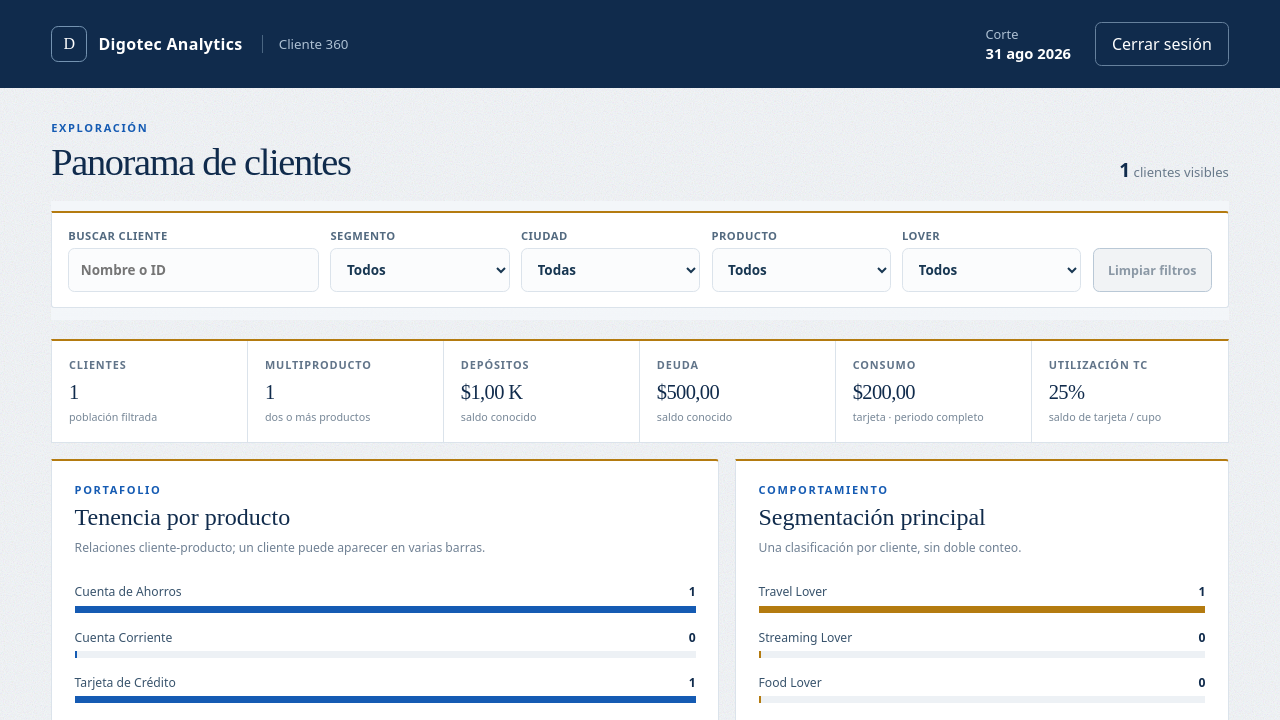
Test case: DashboardView › muestra cero resultados y Power BI no configurado
Step 1. Type "imposible" into the search field labelled "Buscar cliente" → x=194, y=270, box [68, 248, 319, 292]
(page scrolled)
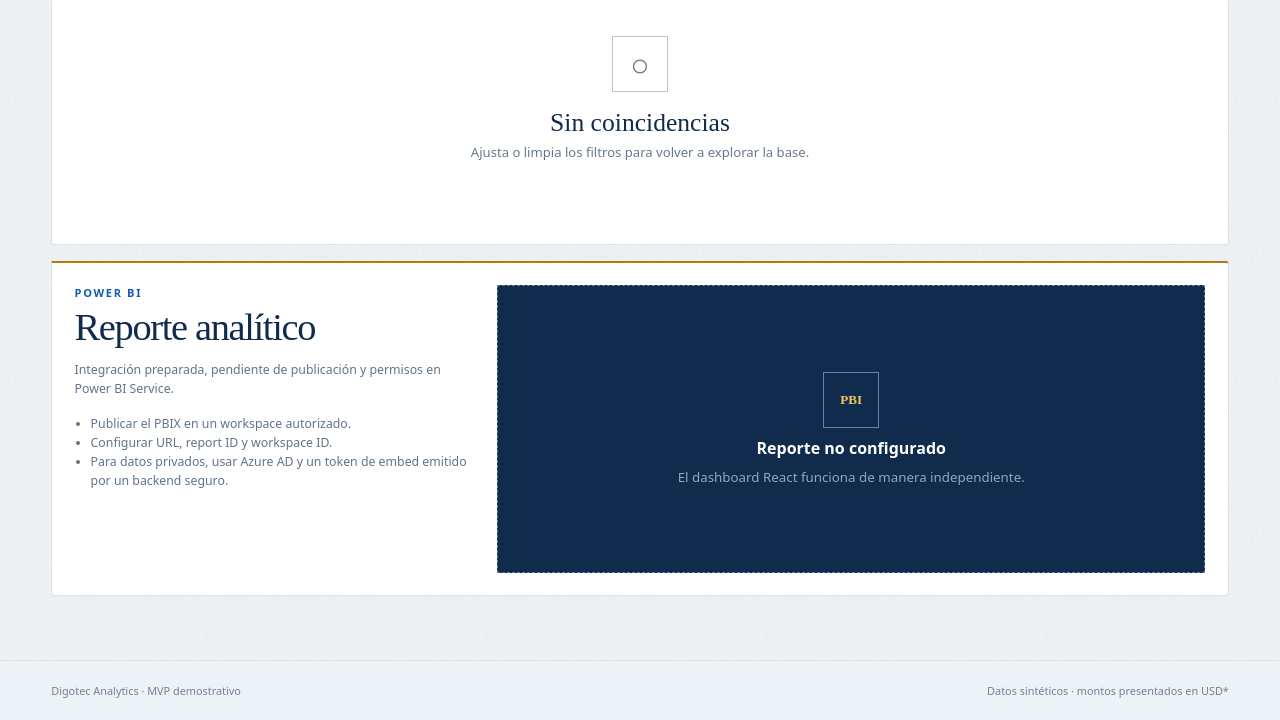
expect the text "Reporte no configurado" is shown: met, box [756, 437, 946, 459]
expect the heading "Sin coincidencias" is shown: met, box [550, 108, 730, 138]
